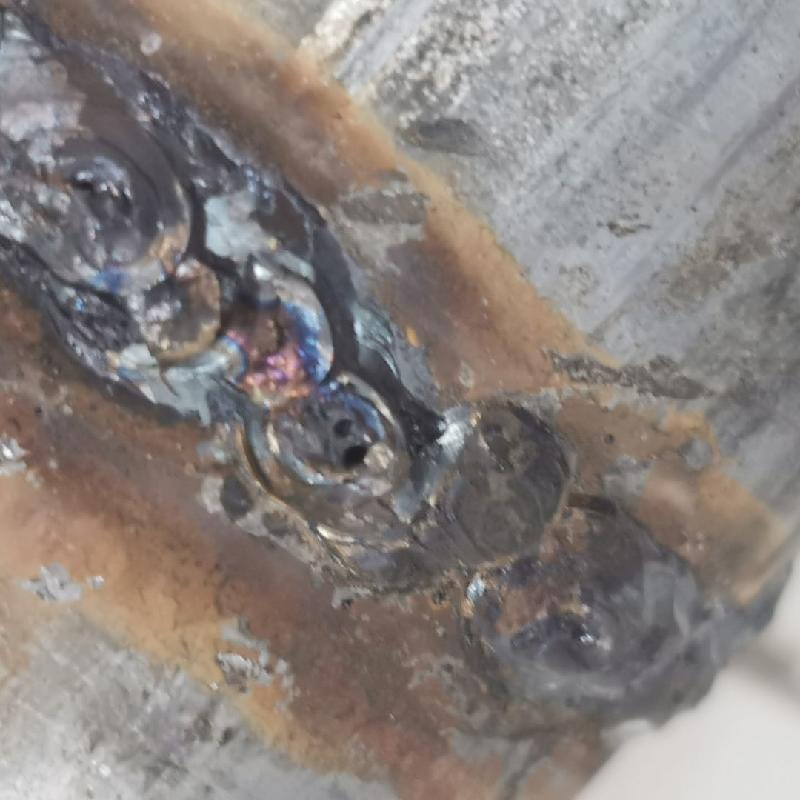Surface_pores: (308, 396, 375, 482), (59, 156, 110, 212)
crater: (8, 29, 405, 500), (414, 412, 723, 712)
